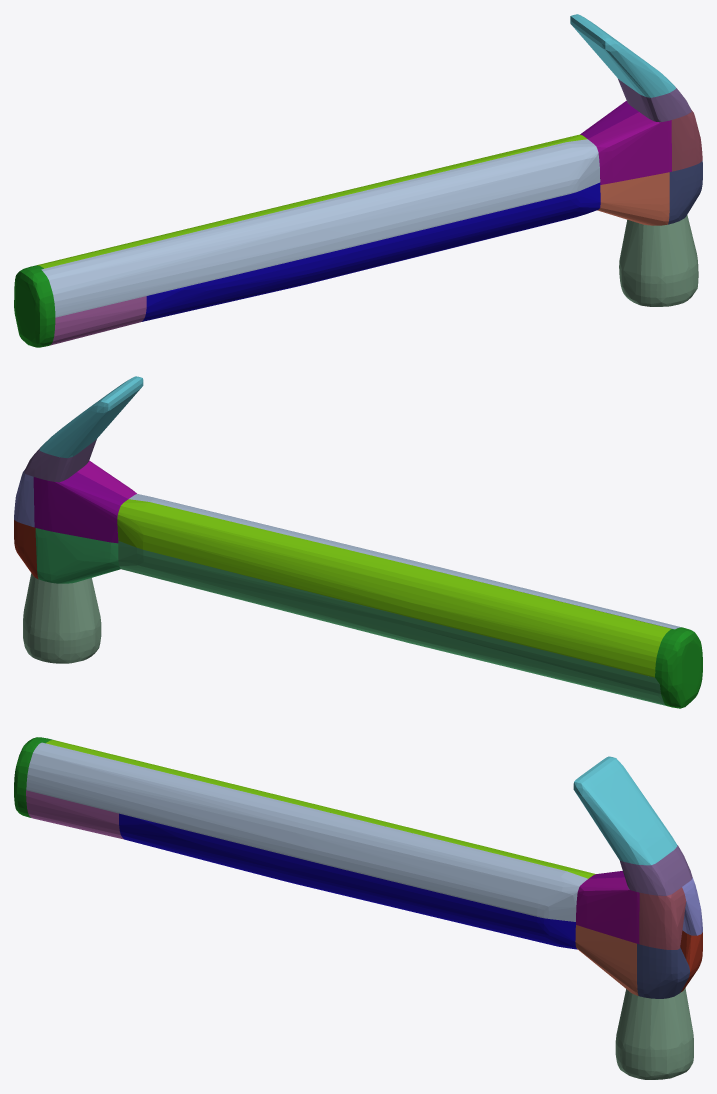
Rendered from coacd_collision.obj.
The picture shows the model from 3 angles, top to bottom: view 1: azimuth 30°, elevation 25°; view 2: azimuth 150°, elevation 25°; view 3: azimuth 330°, elevation 25°; orthographic projection.
Parts seen in each view (by area): view 1: geometry_6, geometry_5, geometry_0, geometry_14, geometry_4, geometry_2, geometry_9, geometry_8, geometry_7, geometry_16, geometry_1, geometry_13 (+1 smaller); view 2: geometry_4, geometry_3, geometry_0, geometry_11, geometry_10, geometry_8, geometry_6, geometry_2, geometry_1, geometry_15, geometry_12, geometry_14; view 3: geometry_6, geometry_5, geometry_2, geometry_0, geometry_14, geometry_4, geometry_13, geometry_7, geometry_16, geometry_9, geometry_1, geometry_8 (+2 smaller).
Part boxes in pixels (x1,y1,x2,y2): geometry_6: (41, 139, 600, 317); geometry_5: (142, 182, 600, 321); geometry_0: (619, 215, 698, 306); geometry_14: (588, 112, 671, 184); geometry_4: (37, 134, 587, 268); geometry_2: (570, 14, 675, 97); geometry_9: (597, 172, 669, 225); geometry_8: (14, 265, 55, 347); geometry_7: (50, 296, 146, 345); geometry_16: (668, 161, 702, 224); geometry_1: (618, 79, 691, 122); geometry_13: (671, 110, 702, 171); geometry_4: (117, 499, 670, 677); geometry_3: (118, 541, 667, 706); geometry_0: (23, 573, 101, 663); geometry_11: (33, 472, 127, 543); geometry_10: (35, 528, 120, 583); geometry_8: (655, 627, 702, 708); geometry_6: (129, 494, 680, 629); geometry_2: (39, 376, 143, 458); geometry_1: (24, 439, 96, 482); geometry_15: (14, 520, 38, 578); geometry_12: (14, 470, 34, 527); geometry_14: (77, 460, 136, 498); geometry_6: (26, 742, 587, 921); geometry_5: (119, 813, 577, 949); geometry_2: (573, 756, 677, 865); geometry_0: (615, 988, 693, 1079); geometry_14: (576, 877, 639, 943); geometry_4: (46, 740, 595, 878); geometry_13: (639, 887, 686, 949); geometry_7: (26, 790, 123, 839); geometry_16: (637, 943, 689, 998); geometry_9: (575, 925, 638, 995); geometry_1: (620, 845, 692, 895); geometry_8: (14, 737, 52, 817).
Size of the model in its own units: 333 by 134 by 35.92.
